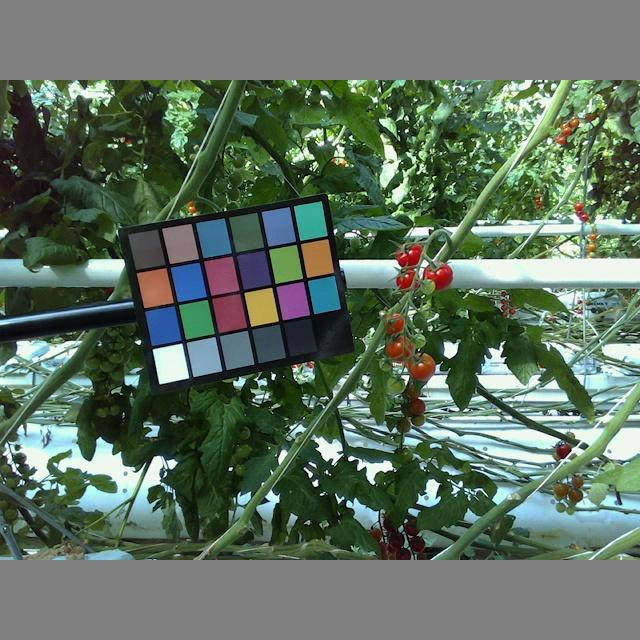green: (387, 375, 405, 394), (379, 355, 394, 372), (421, 278, 435, 295), (411, 334, 425, 351)
pink: (384, 335, 413, 362), (409, 352, 435, 380), (383, 311, 408, 336)
red: (424, 260, 454, 292), (394, 241, 425, 269), (395, 268, 423, 294)
